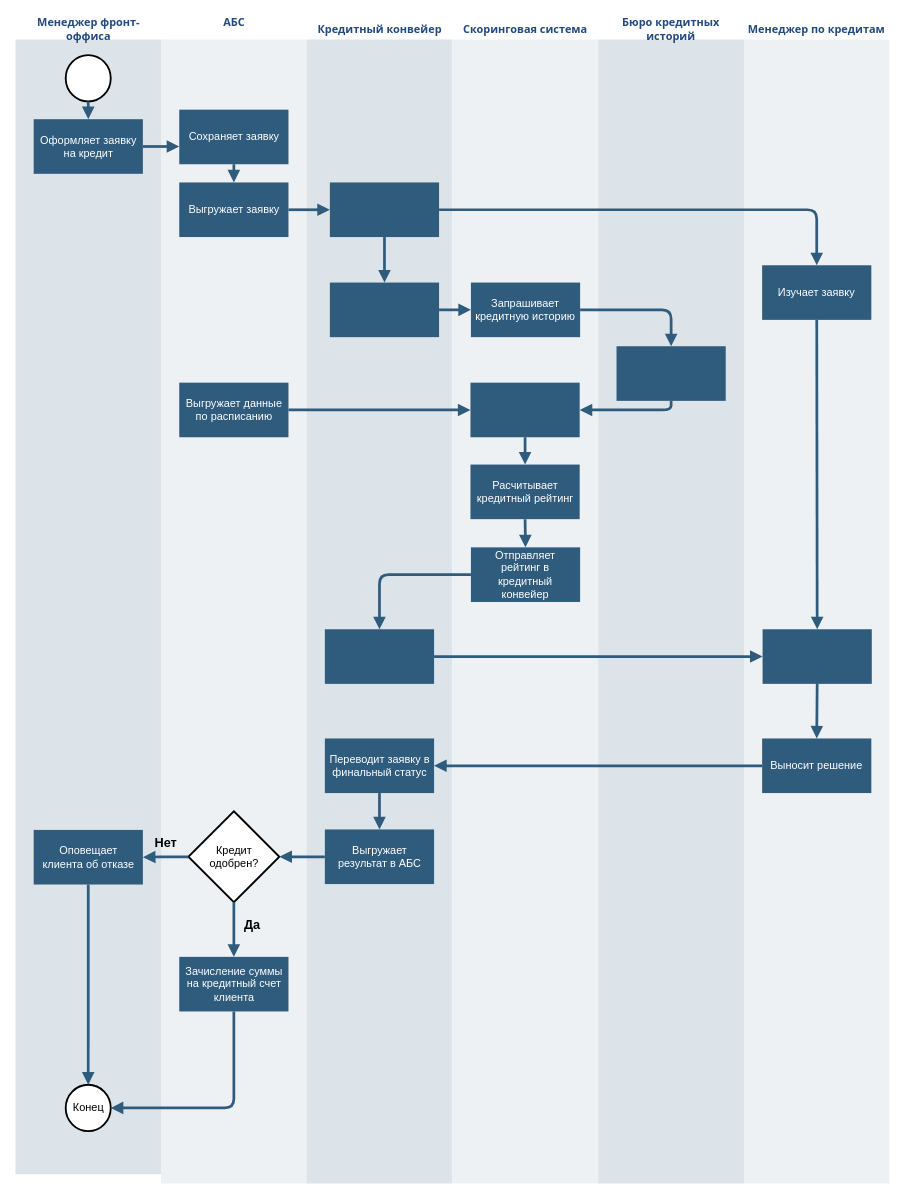
Image size: 905x1198. Some labels were removed from this diagram. The centre of each missing label's shape, as x and y in pixels:
"Аггрегирует данные" belongs at (524,409).
"Начало" belongs at (87,78).
"Отдает кредитную историю" belongs at (670,373).
"Отправляет запрос на скоринг" belongs at (384,309).
"Оценивает кредитный рейтинг" belongs at (816,656).
"Предоставляет оценку" belongs at (379,656).
"Принимает заявку" belongs at (384,209).
